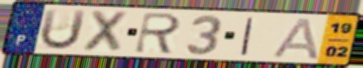3: (184, 13, 225, 57)
A: (270, 16, 321, 61)
I: (239, 16, 257, 57)
R: (132, 11, 184, 56)
U: (38, 7, 89, 52)
X: (79, 9, 131, 55)
